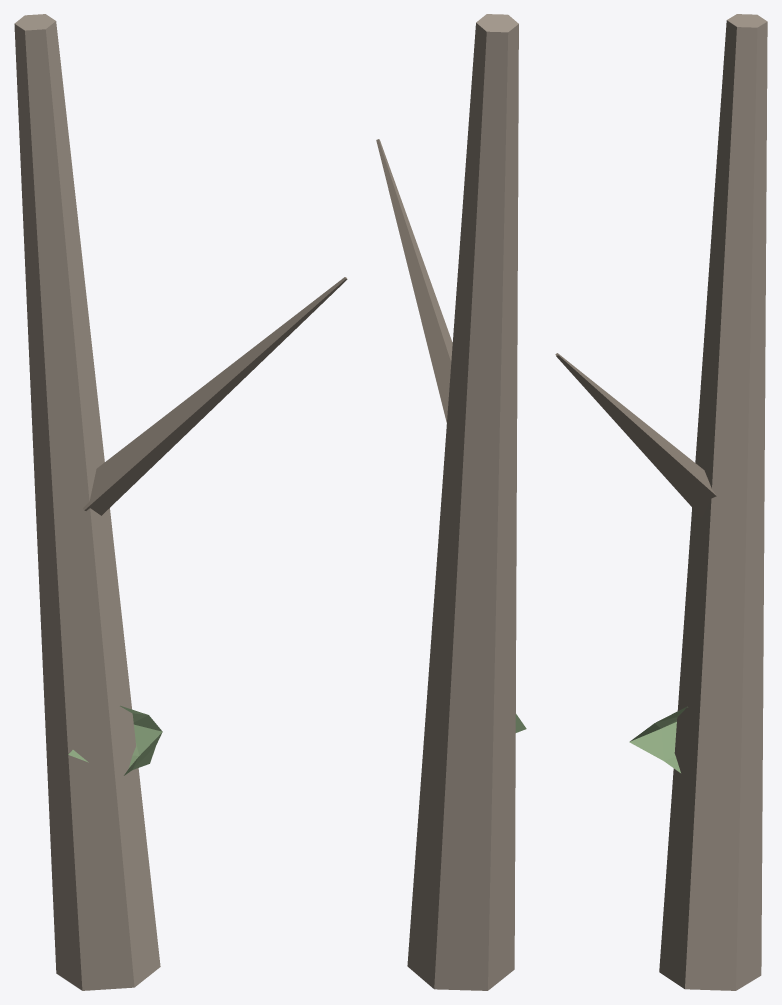
Rendered from snag_v04.glb.
3 views of the same model, side by side, from view 1: azimuth 30°, elevation 25°; view 2: azimuth 150°, elevation 25°; view 3: azimuth 270°, elevation 25° (orthographic). The views are drawn at different scales.
Visible parts, largest first — view 1: lod0; view 2: lod0; view 3: lod0.
Part boxes in pixels (x1,y1,x2,y2): lod0: [14, 14, 347, 990]; lod0: [376, 14, 526, 990]; lod0: [555, 14, 767, 990].
Size of what is drawn, in the model's own units: 1.12 by 4.42 by 0.9127.
